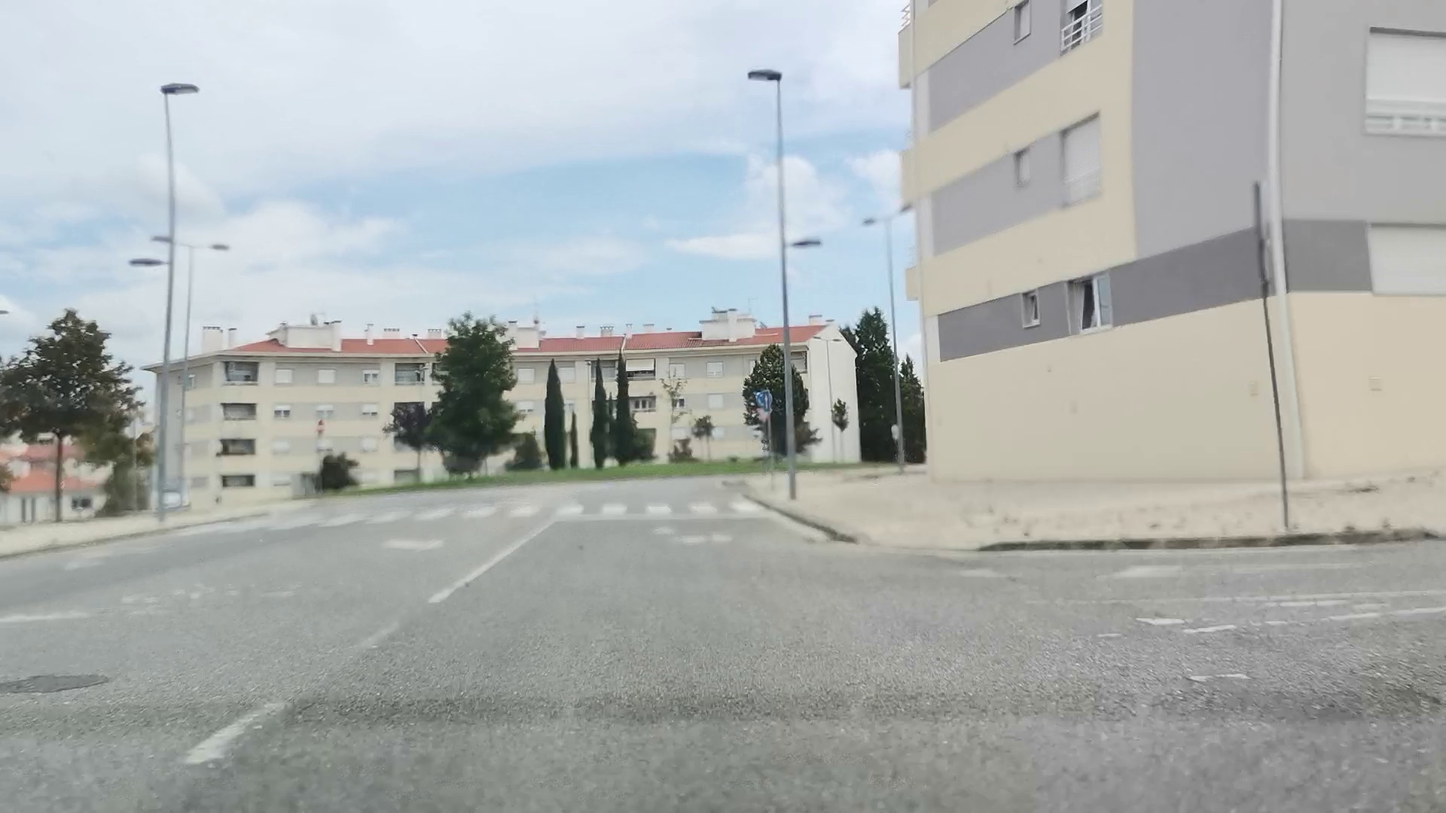Stairs: (166, 496, 766, 536)
